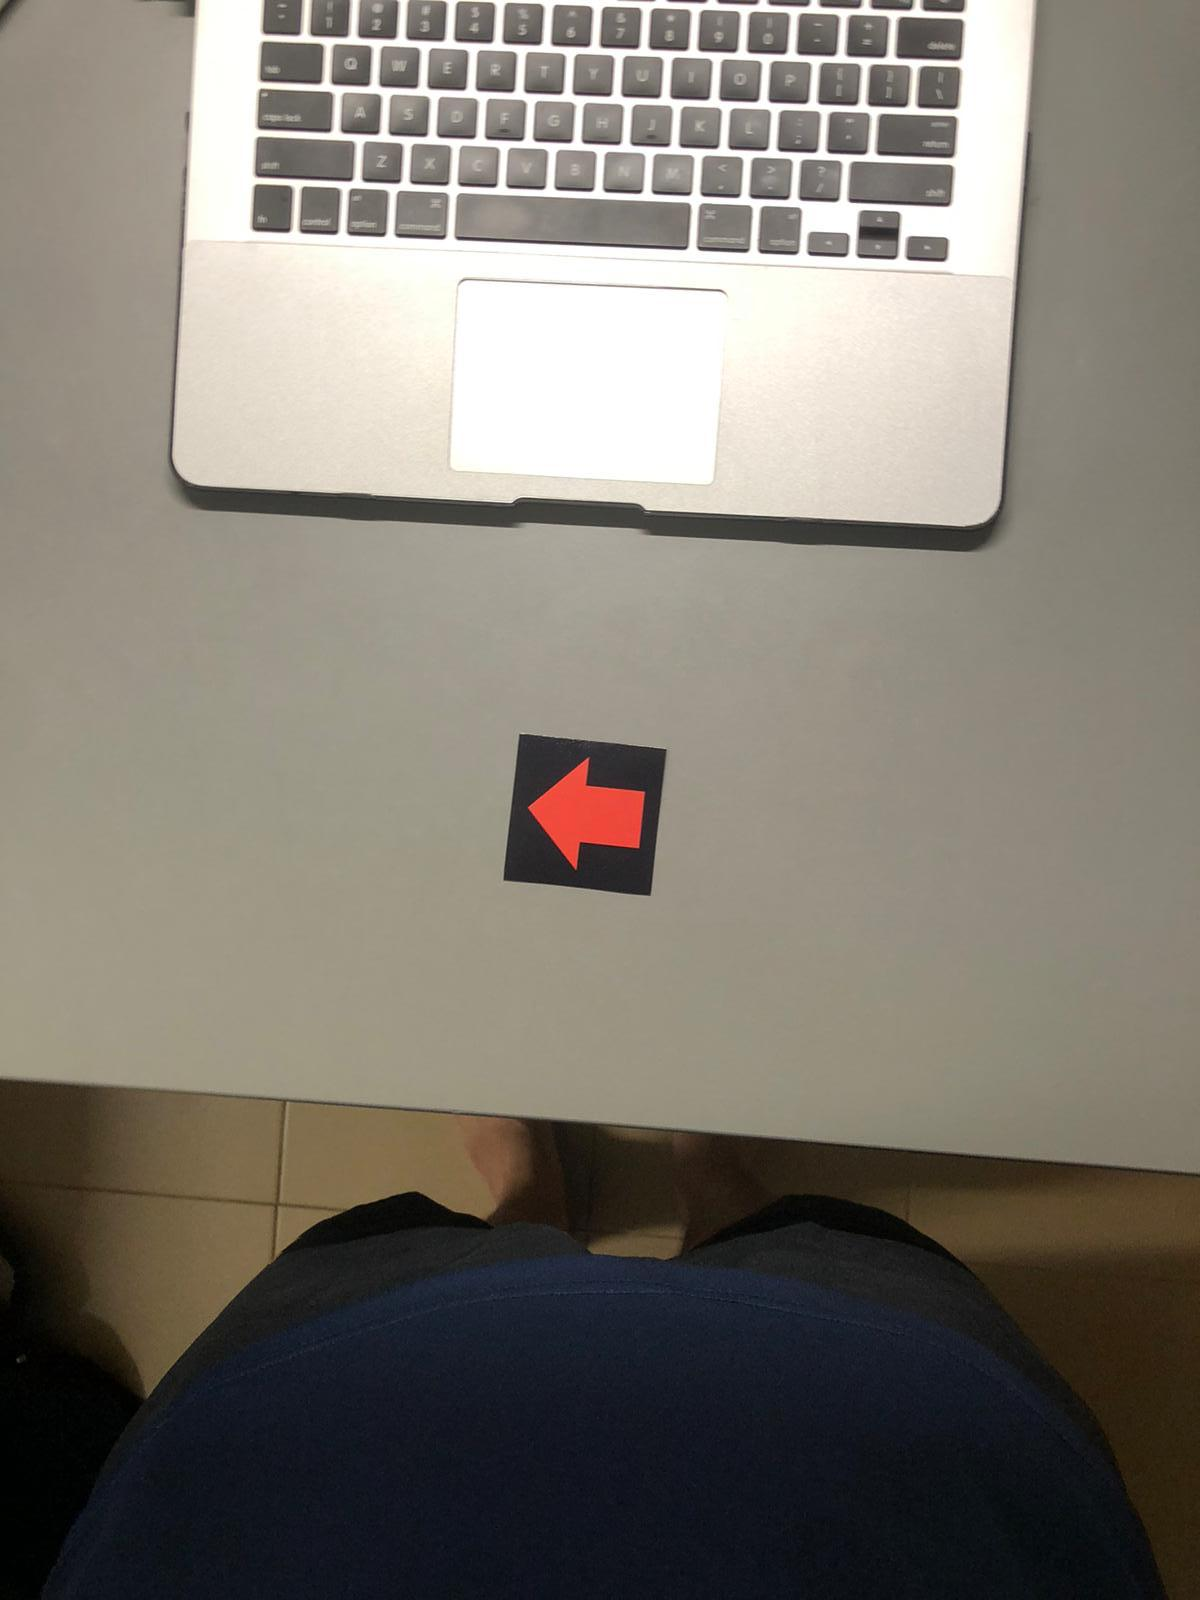Left Arrow: (522, 729, 663, 888)
